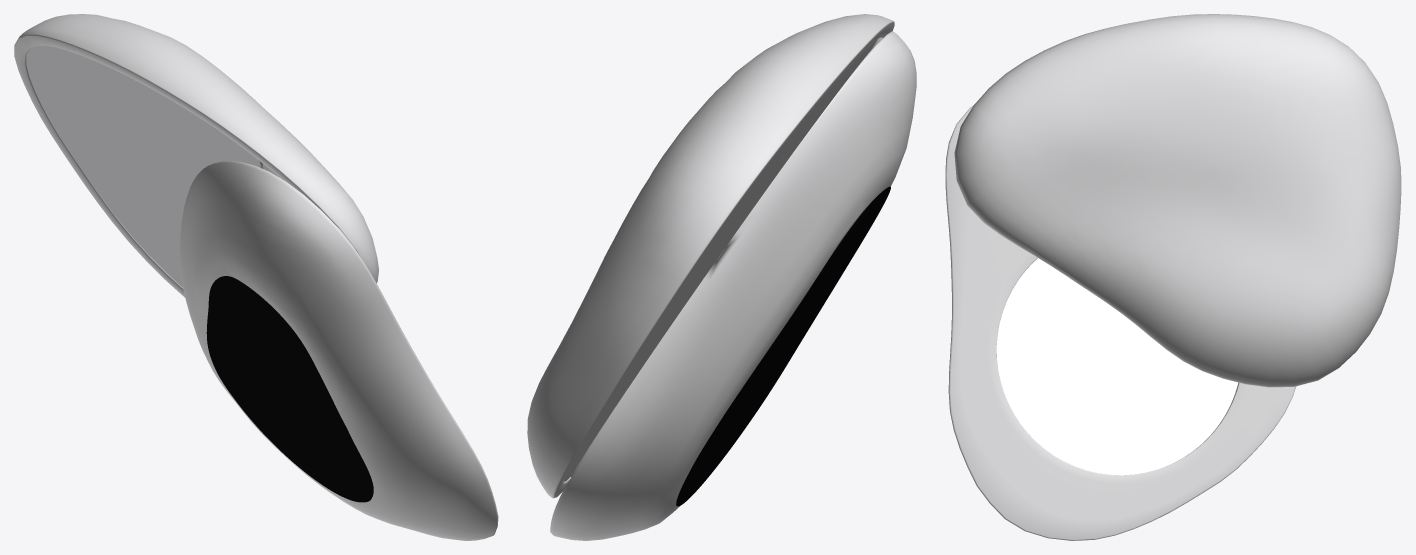
The model's file is product.glb.
The picture shows the model from 3 angles, left to right: view 1: azimuth 30°, elevation 25°; view 2: azimuth 150°, elevation 25°; view 3: azimuth 270°, elevation 25°; orthographic projection. The views are drawn at different scales.
Parts seen in each view (by area): view 1: 7 Deep Throat; view 2: 7 Deep Throat; view 3: 7 Deep Throat.
Part boxes in pixels (x1=…): 7 Deep Throat: x1=14, y1=14, x2=498, y2=540; 7 Deep Throat: x1=527, y1=14, x2=916, y2=540; 7 Deep Throat: x1=945, y1=14, x2=1401, y2=540.
Size of the model in its own units: 0.7535 by 1.25 by 1.22.
Materials: 4 (3 with a texture image).
